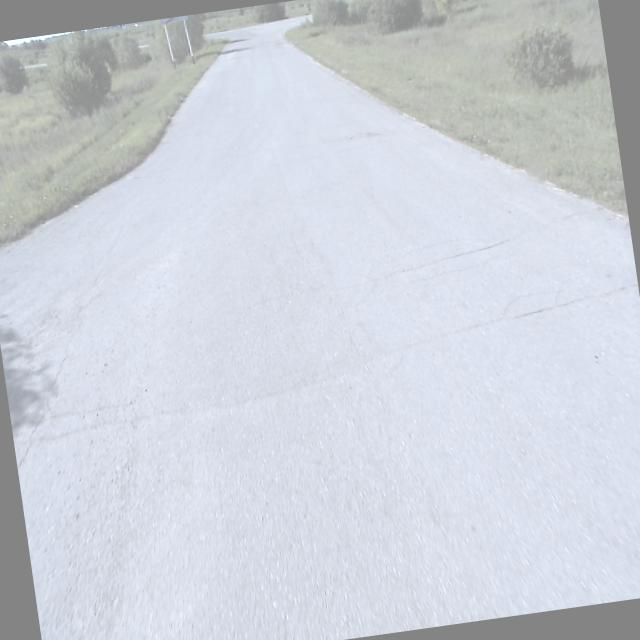road: (0, 16, 640, 640)
